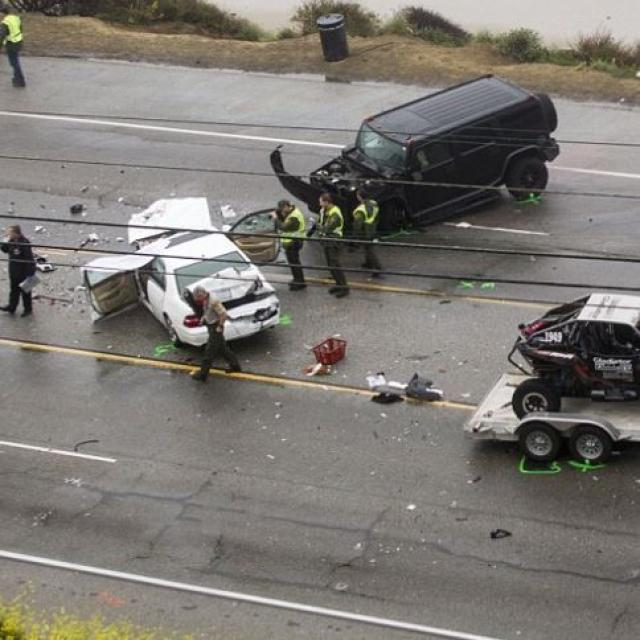traffic_incident: (262, 49, 559, 255), (88, 160, 270, 360)
